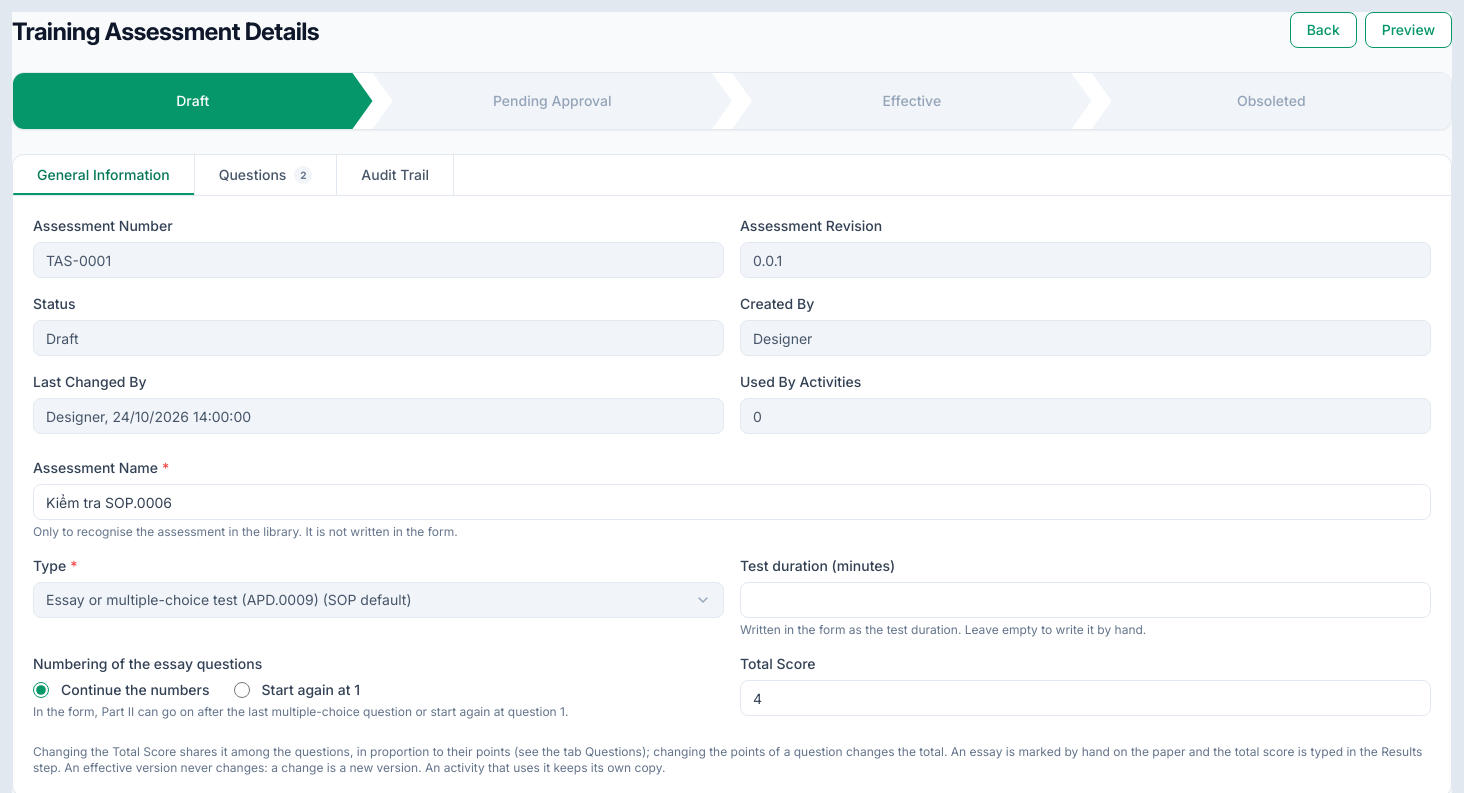
Test: Training Assessment (APD.0009) in the library › editing the Total Score shares it among the questions in the tab Questions
This screenshot has width=1464, height=793.
Replace the text in the number field labelled "Total Score" with "10": [1086, 698] box [740, 680, 1431, 716]
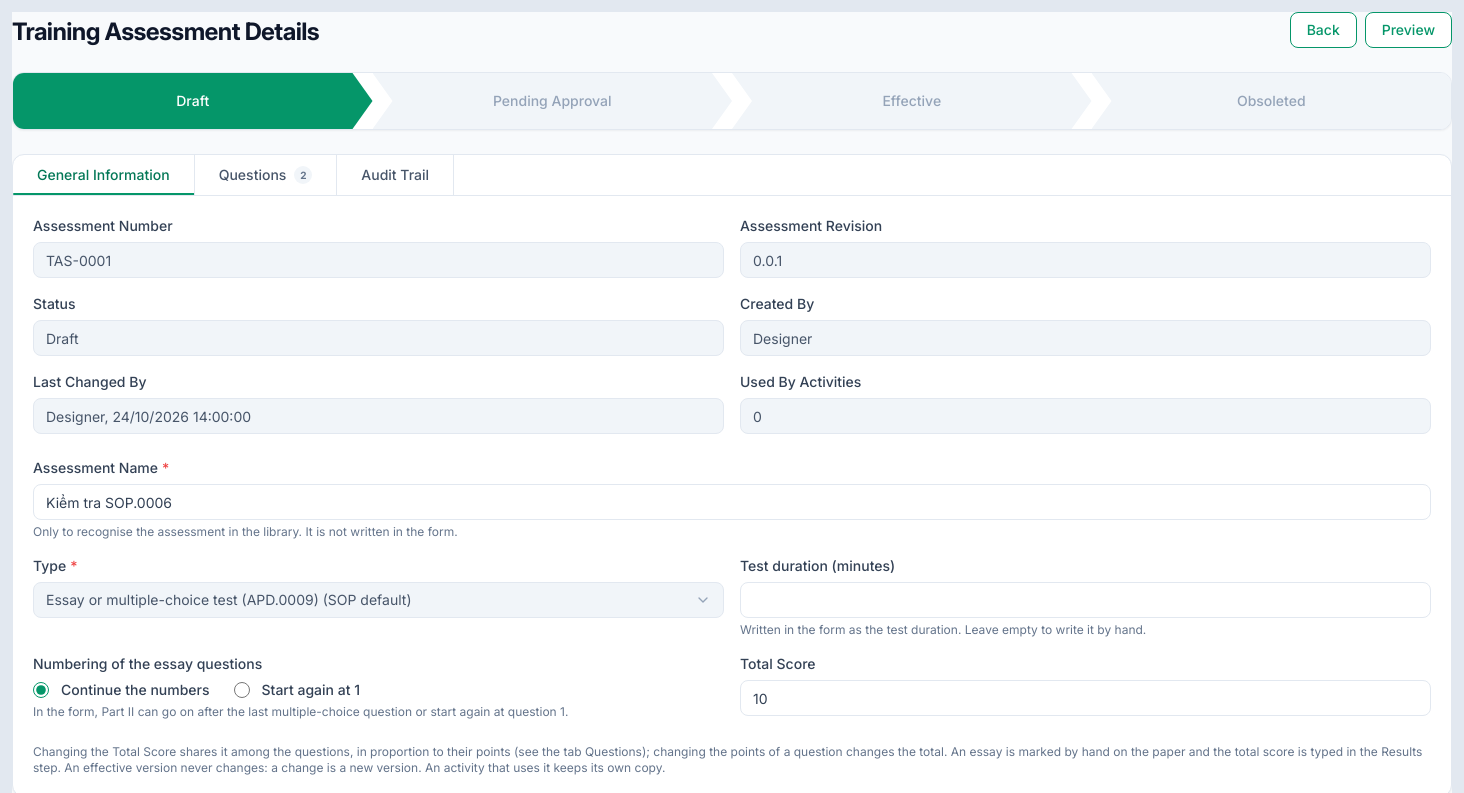
Click the tab "Questions 2": [266, 175] box [195, 155, 337, 195]
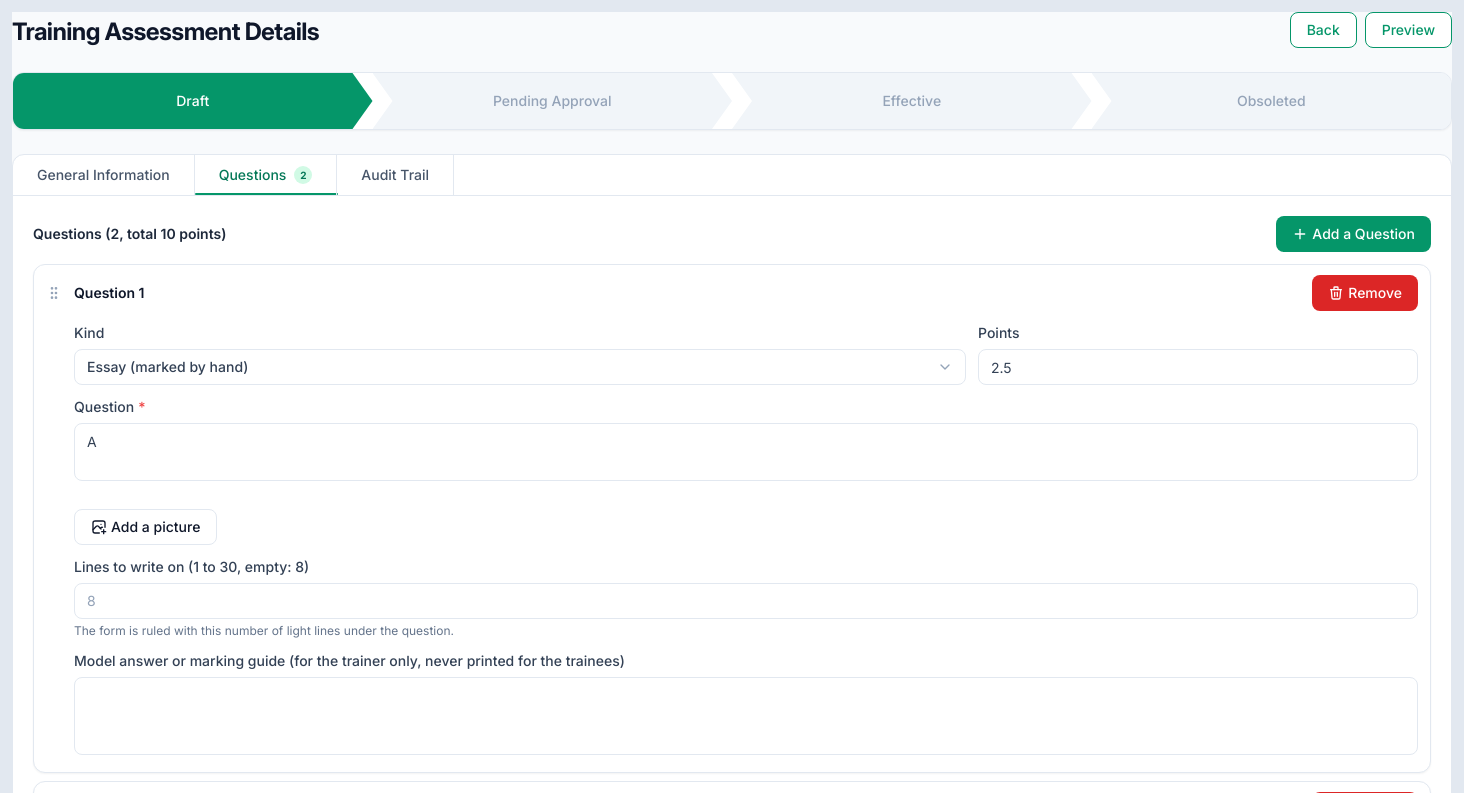
expect the heading "Questions (2, total 10 points)" is shown: met, box [33, 224, 226, 244]
